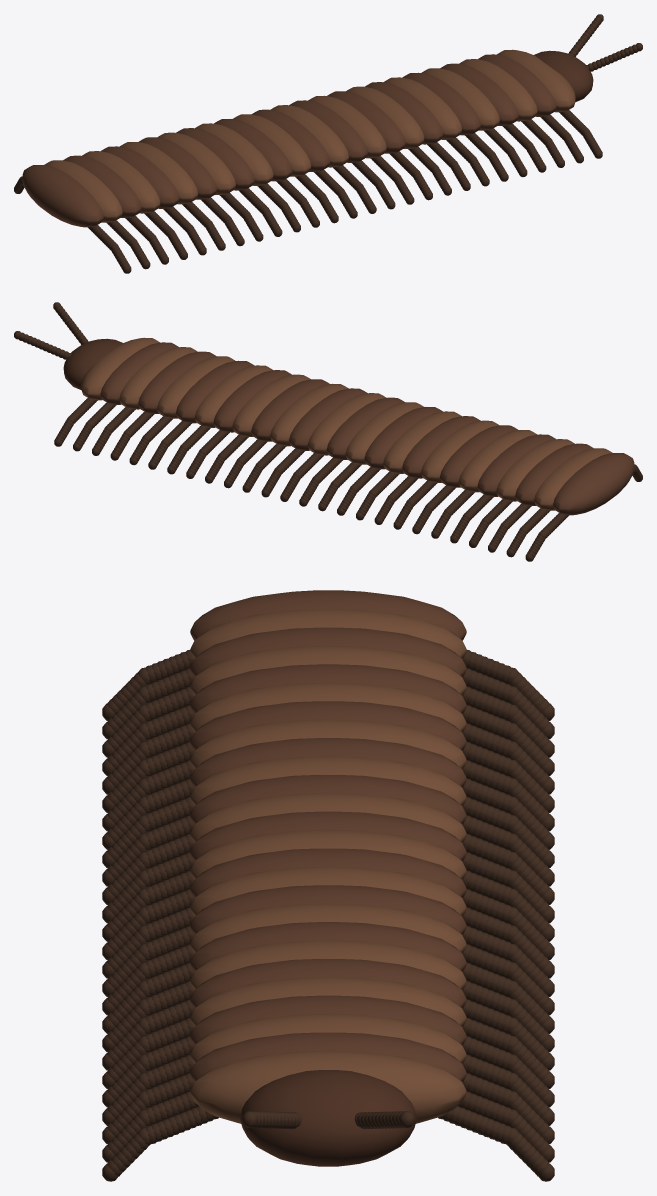
The model's file is arthropleura.glb.
The picture shows the model from 3 angles, top to bottom: view 1: azimuth 30°, elevation 25°; view 2: azimuth 150°, elevation 25°; view 3: azimuth 270°, elevation 25°; orthographic projection. The views are drawn at different scales.
Parts seen in each view (by area): view 1: arthropleura; view 2: arthropleura; view 3: arthropleura.
Boxes of the visible parts, x1,y1,x2,y2 form: arthropleura: [14, 14, 642, 273]; arthropleura: [14, 302, 642, 561]; arthropleura: [102, 590, 554, 1181].
Size of the model in its own units: 3.09 by 0.362 by 1.04.
